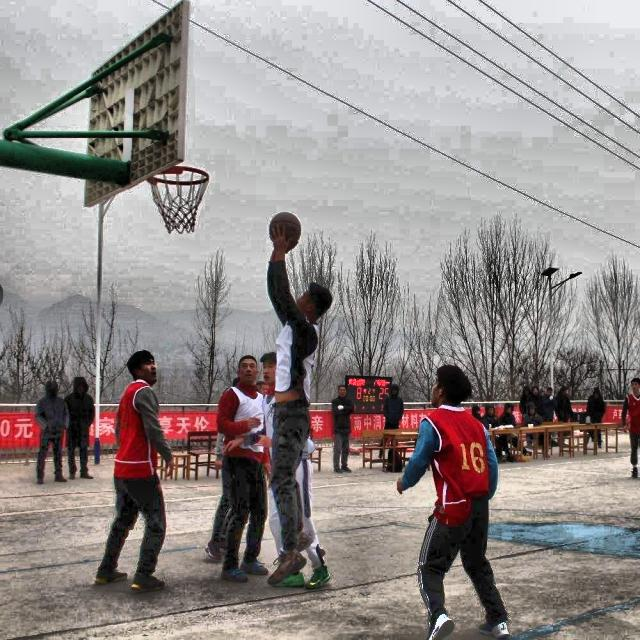rim: (148, 164, 210, 235)
